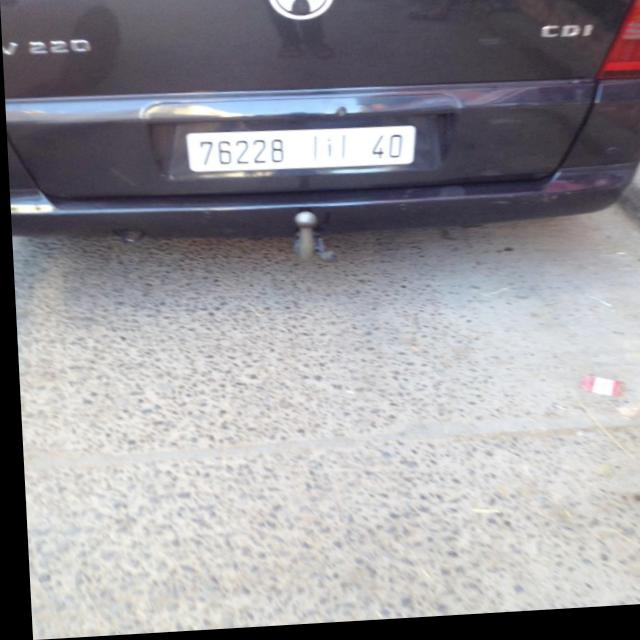License-Plate: (184, 130, 415, 175)
